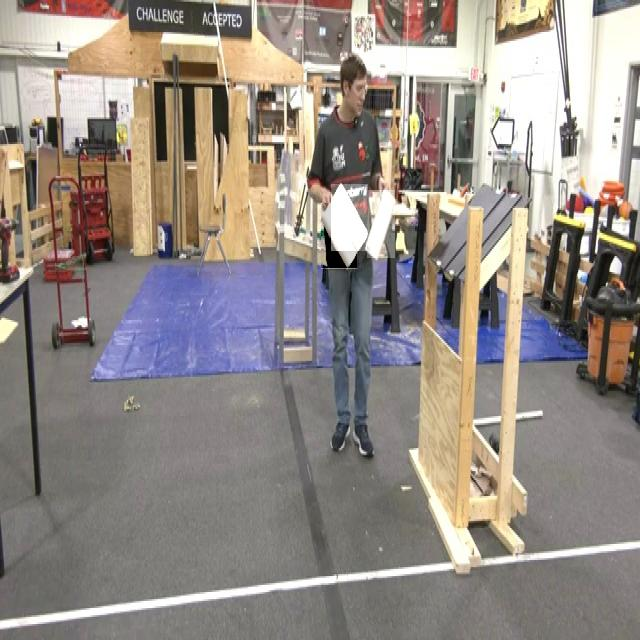Coral: (331, 184, 368, 251), (321, 203, 357, 270), (367, 190, 395, 258)
